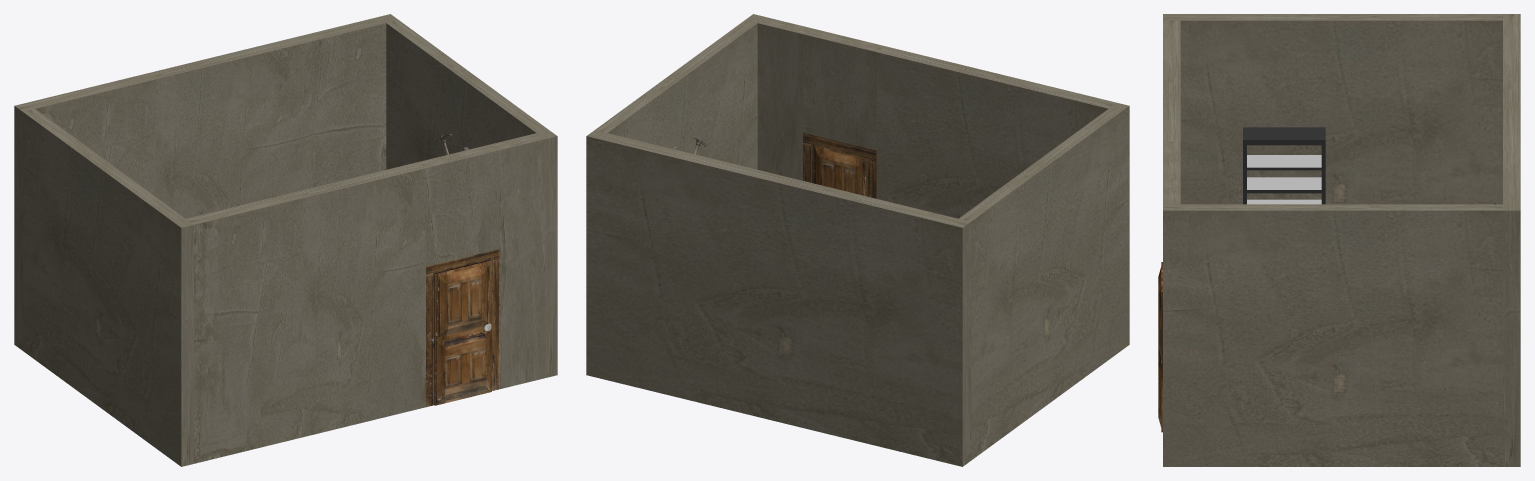
Rendered from Room1_light.fbx.
3 renders of one model, left to right at view 1: azimuth 30°, elevation 25°; view 2: azimuth 150°, elevation 25°; view 3: azimuth 270°, elevation 25°, orthographic. The views are drawn at different scales.
Visible parts, largest first — view 1: wall.017, wall.016, wall.018, wall.014, wall.015, Cube.027, Cube.026; view 2: wall.016, wall.018, wall.017, wall.014, wall.015, Cube.029, Cube.026; view 3: wall.015, wall.018, wall.016, shelf.002, wall.017, wall.014, Cube.027.
Part boxes in pixels (x1,y1,x2,y2): wall.017: (186, 162, 425, 463); wall.016: (14, 14, 398, 350); wall.018: (22, 109, 193, 466); wall.014: (418, 133, 544, 388); wall.015: (386, 20, 557, 377); Cube.027: (434, 260, 491, 405); Cube.026: (426, 249, 499, 407); wall.016: (586, 130, 970, 466); wall.018: (958, 103, 1129, 460); wall.017: (876, 46, 1116, 218); wall.014: (757, 17, 884, 180); wall.015: (595, 14, 765, 169); Cube.029: (811, 144, 868, 196); Cube.026: (803, 133, 876, 198); wall.015: (1163, 204, 1502, 466); wall.018: (1163, 14, 1502, 204); wall.016: (1503, 14, 1520, 466); shelf.002: (1243, 127, 1325, 204); wall.017: (1163, 20, 1180, 141); wall.014: (1163, 142, 1180, 204); Cube.027: (1158, 262, 1162, 432).
Bounding box in the file's own units: 1448 × 883 × 1128.
